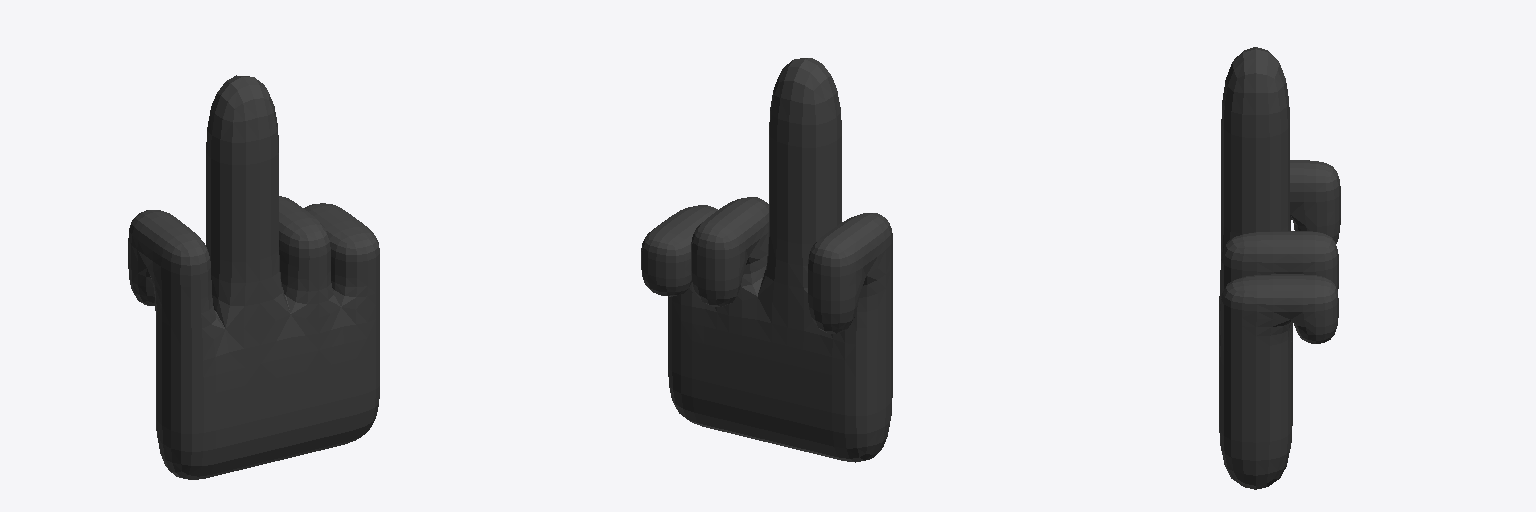
Rendered from mittelfinger.obj.
3 views of the same model, side by side, from view 1: azimuth 30°, elevation 25°; view 2: azimuth 150°, elevation 25°; view 3: azimuth 270°, elevation 25° (orthographic).
Parts seen in each view (by area): view 1: Cube_Cube.001; view 2: Cube_Cube.001; view 3: Cube_Cube.001.
Boxes of the visible parts, box(x1,y1,x2,y2) form: Cube_Cube.001: box(128, 75, 379, 479); Cube_Cube.001: box(641, 58, 892, 462); Cube_Cube.001: box(1219, 47, 1340, 489).
Bounding box in the file's own units: 6.7 × 11.67 × 3.32.